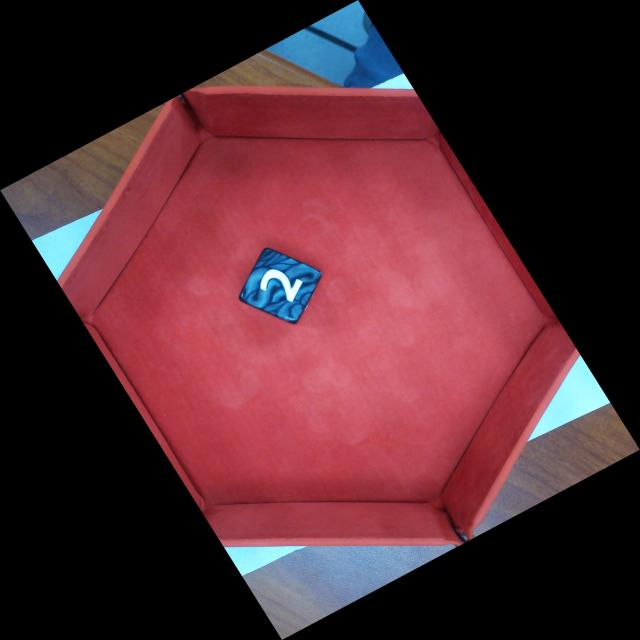dice: (236, 245, 325, 326)
